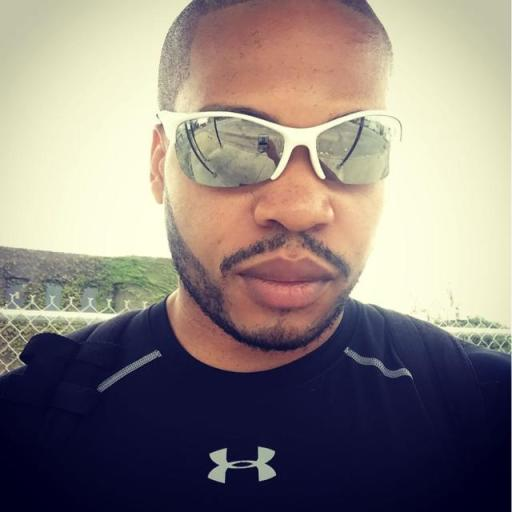Under Armour: (204, 442, 279, 485)
